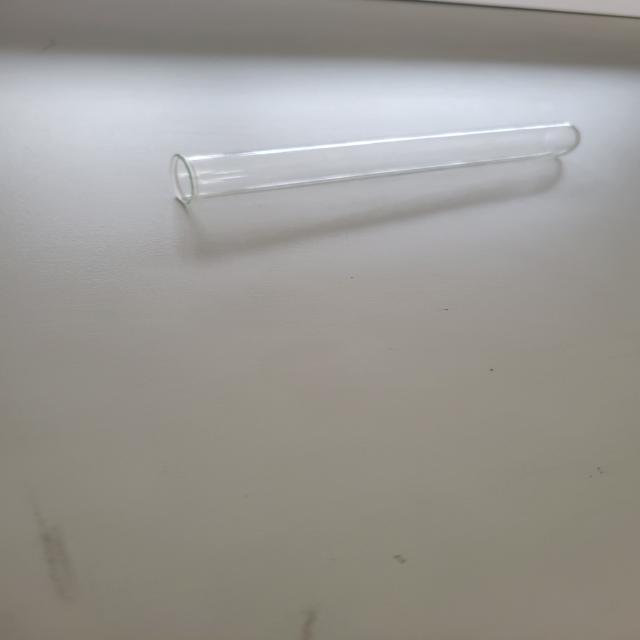Test_Tube: (134, 102, 600, 226)
